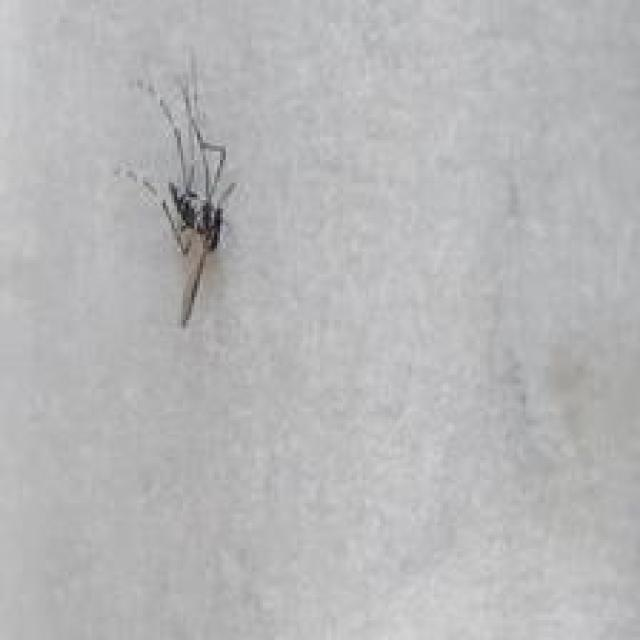Aedes albopictus: (115, 50, 238, 327)
